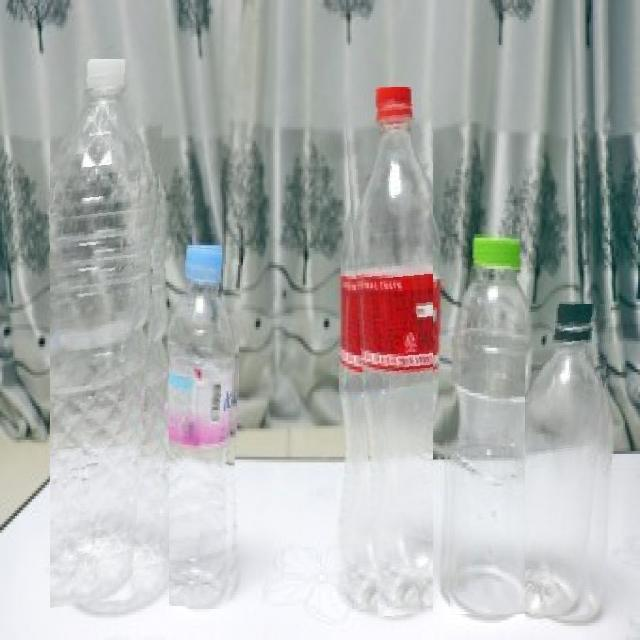plastic bottle: (50, 59, 168, 612), (343, 88, 433, 618), (442, 235, 526, 614), (525, 304, 612, 624), (169, 245, 243, 606)
